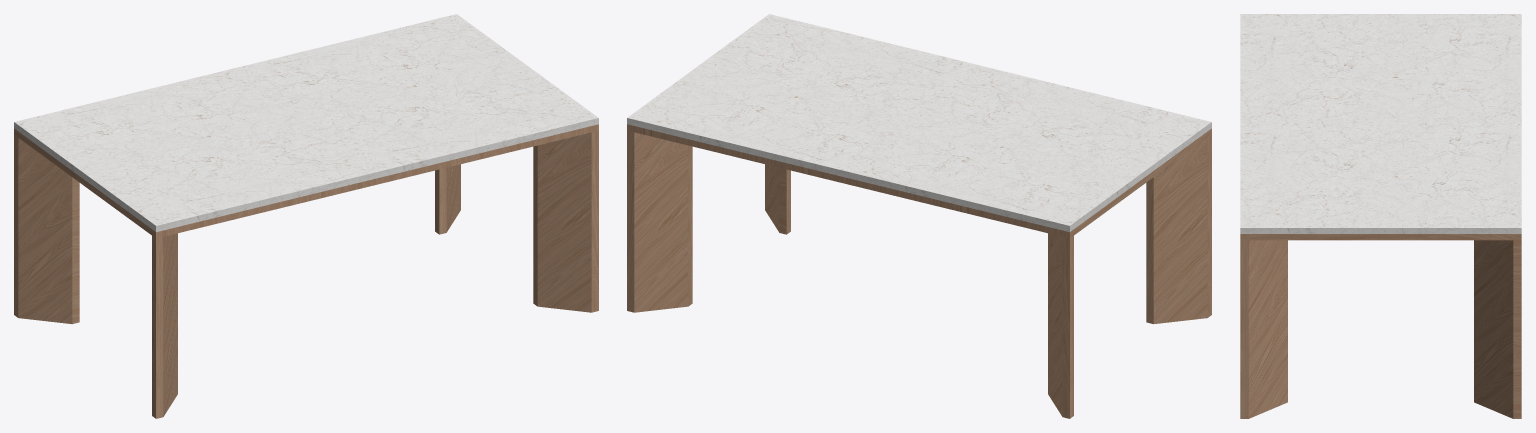
File: table24.glb
3 renders of one model, left to right at view 1: azimuth 30°, elevation 25°; view 2: azimuth 150°, elevation 25°; view 3: azimuth 270°, elevation 25°, orthographic.
Parts seen in each view (by area): view 1: Material2 (×2); view 2: Material2 (×2); view 3: Material2 (×2).
Part boxes in pixels (x1=…): Material2 (×2): x1=14, y1=14, x2=598, y2=418; Material2 (×2): x1=627, y1=14, x2=1211, y2=418; Material2 (×2): x1=1240, y1=14, x2=1521, y2=418.
Size of the model in its own units: 2.18 by 0.9091 by 1.21.
2 materials, 2 textured.
